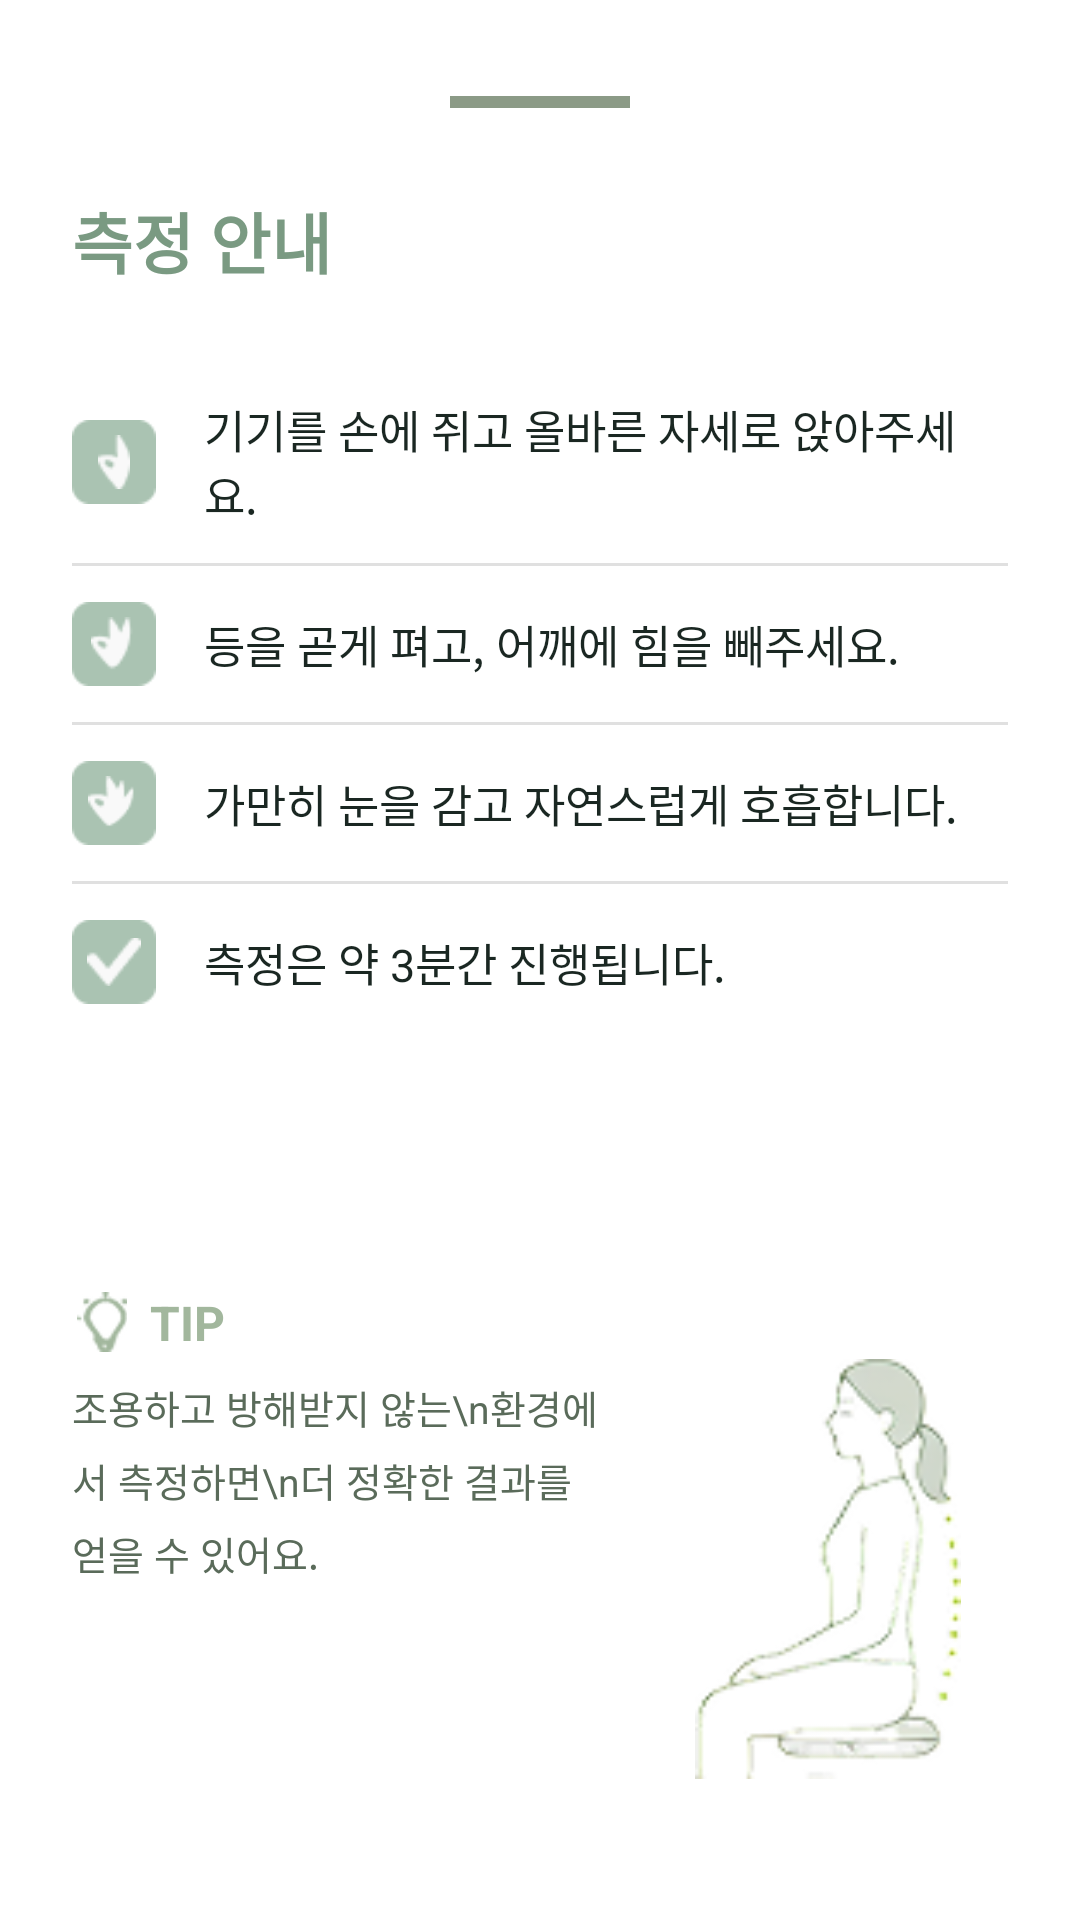

Icon bounding boxes for this 1080*1920 phone screenshot, format (x1, y1, x2, y2):
손모양1: (72, 420, 156, 504)
손모양2: (72, 602, 156, 686)
손모양3: (72, 761, 156, 845)
체크아이콘: (72, 920, 156, 1004)
